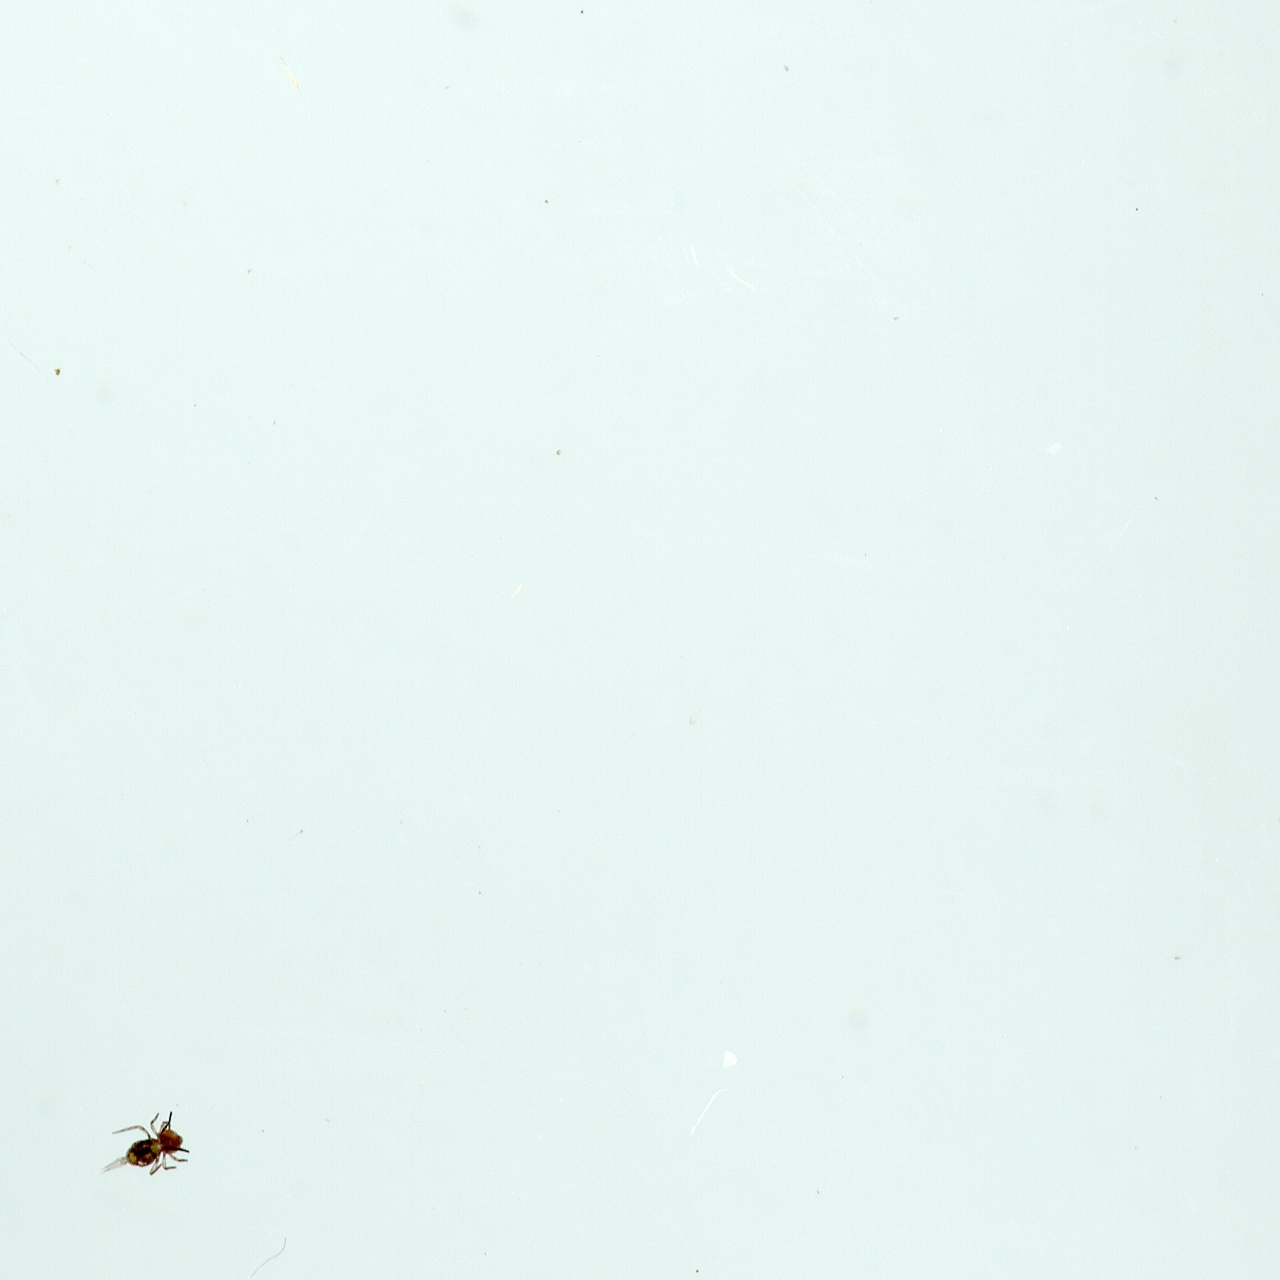arthropod: (79, 1091, 207, 1211)
